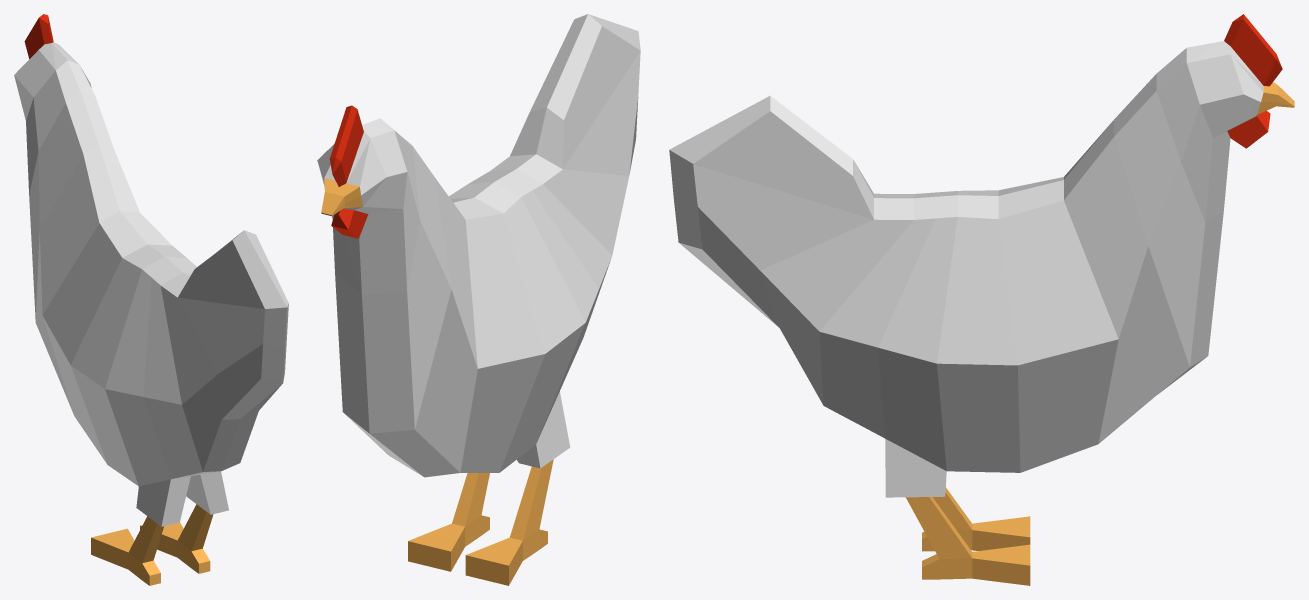
The model's file is Chicken.fbx.
3 views of the same model, side by side, from view 1: azimuth 30°, elevation 25°; view 2: azimuth 150°, elevation 25°; view 3: azimuth 270°, elevation 25° (orthographic). The views are drawn at different scales.
Parts seen in each view (by area): view 1: Cube.001; view 2: Cube.001; view 3: Cube.001.
Part boxes in pixels (x1,y1,x2,y2): Cube.001: [14, 14, 288, 585]; Cube.001: [317, 14, 640, 585]; Cube.001: [669, 14, 1294, 585].
Bounding box in the file's own units: 25.42 × 82.24 × 85.05.
Materials: 1 (1 with a texture image).
